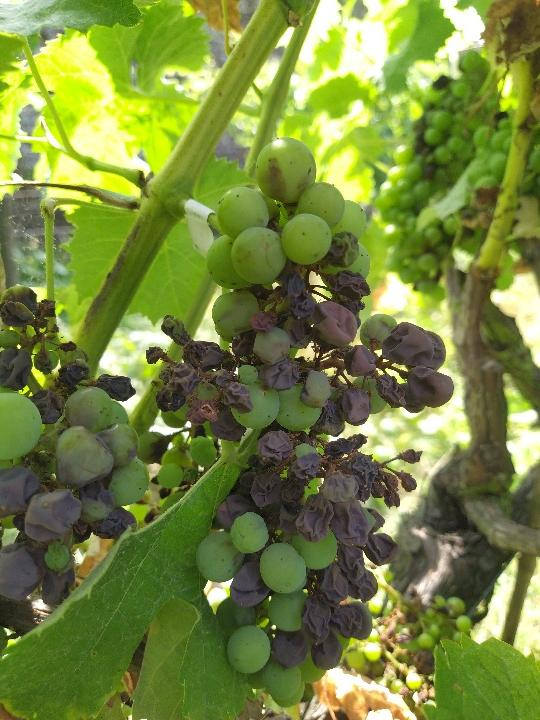grape: (142, 131, 457, 710), (379, 51, 526, 293)
